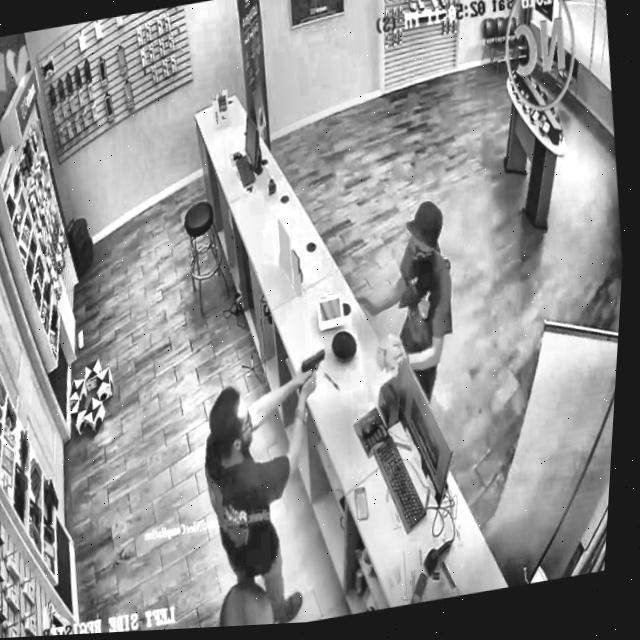pistol: (284, 334, 341, 417)
